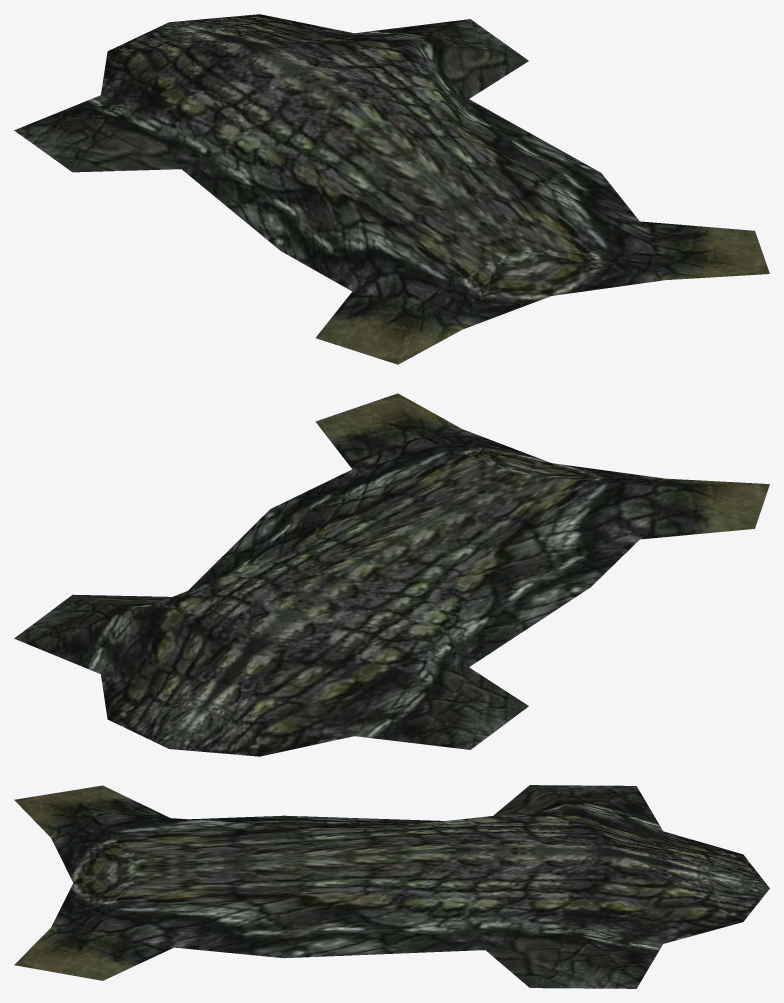
The model's file is ITAT_LURKERSKIN.glb.
The picture shows the model from 3 angles, top to bottom: view 1: azimuth 30°, elevation 25°; view 2: azimuth 150°, elevation 25°; view 3: azimuth 270°, elevation 25°; orthographic projection. The views are drawn at different scales.
Parts seen in each view (by area): view 1: ITAT_LURKERSKIN; view 2: ITAT_LURKERSKIN; view 3: ITAT_LURKERSKIN.
Part boxes in pixels (x1,y1,x2,y2): ITAT_LURKERSKIN: (14, 14, 769, 364); ITAT_LURKERSKIN: (14, 393, 769, 756); ITAT_LURKERSKIN: (14, 785, 769, 988).
Bounding box in the file's own units: 0.6049 × 0.0578 × 0.9521.
1 material, 1 textured.
